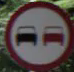No overtake: (8, 7, 67, 59)
